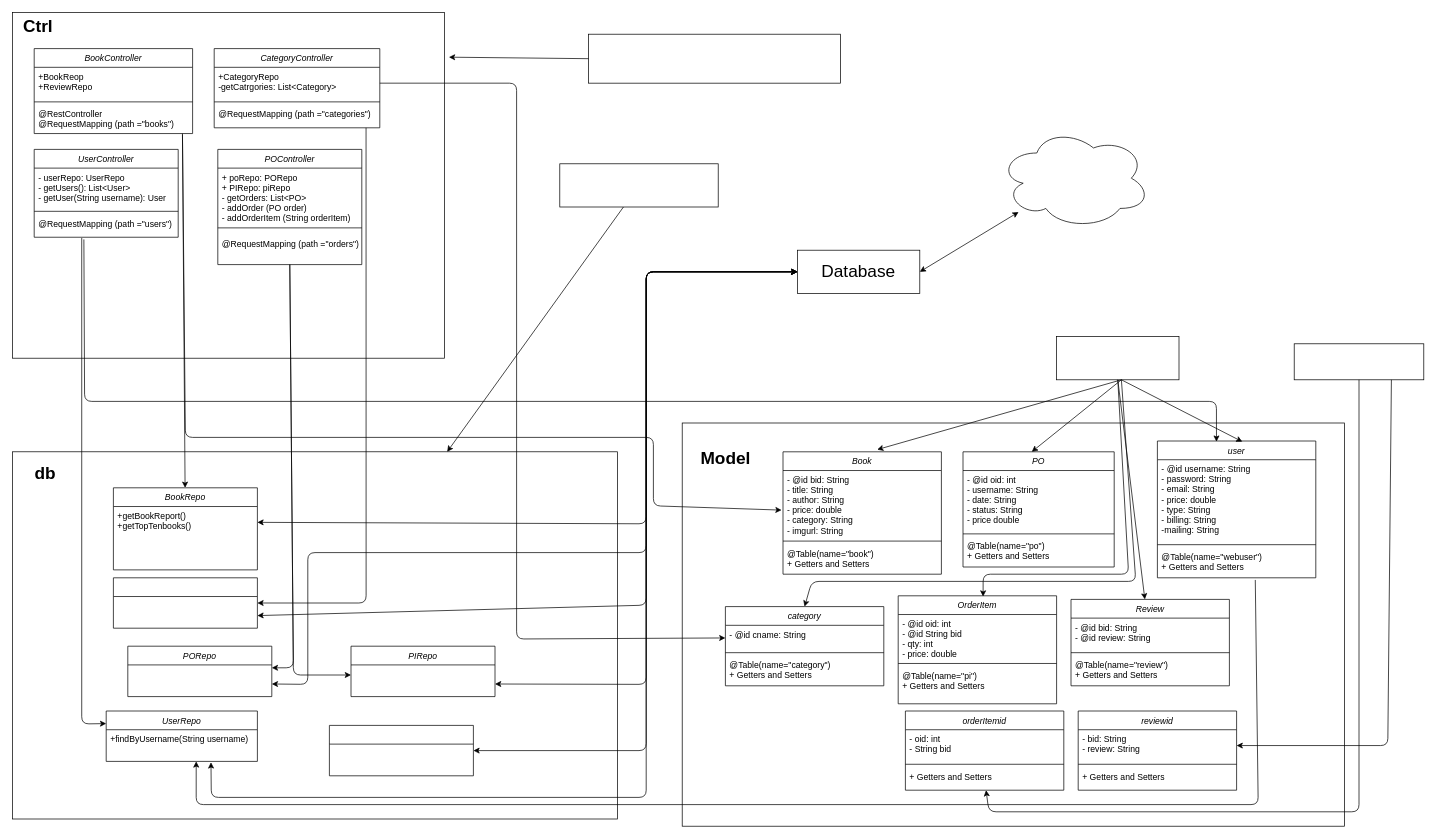
The diagram is 1436 pixels wide and 839 high, and some of its shapes have lost their labels. Each missing label, with the centre of its shape:
CatagoryRepo: point 185,602
Cloud db2: point 1074,178
java.io.Serializable.*: point 1358,361
javax.presistence.*: point 1117,358
org.springframework.data.*: point 638,185
org.springframework.web.bind.annotation.*: point 714,58
ReviewRepo: point 401,750
